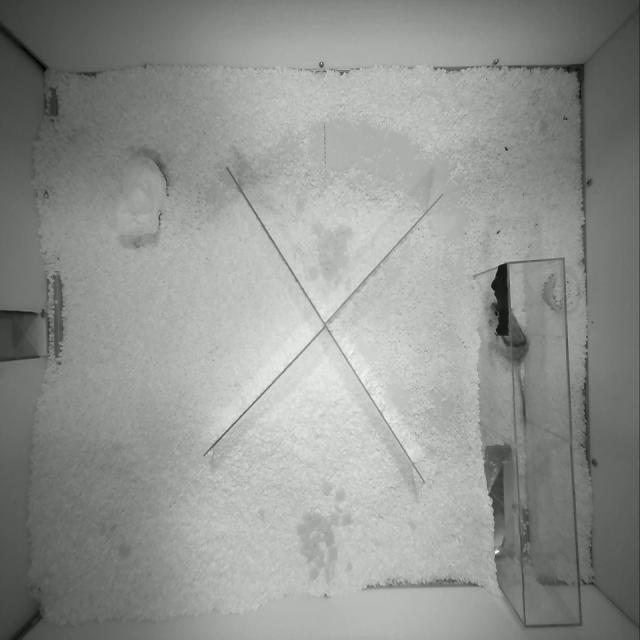adult_front: (498, 312, 528, 420), (491, 302, 498, 318)
